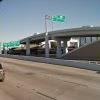Bridge: (13, 30, 94, 59)
